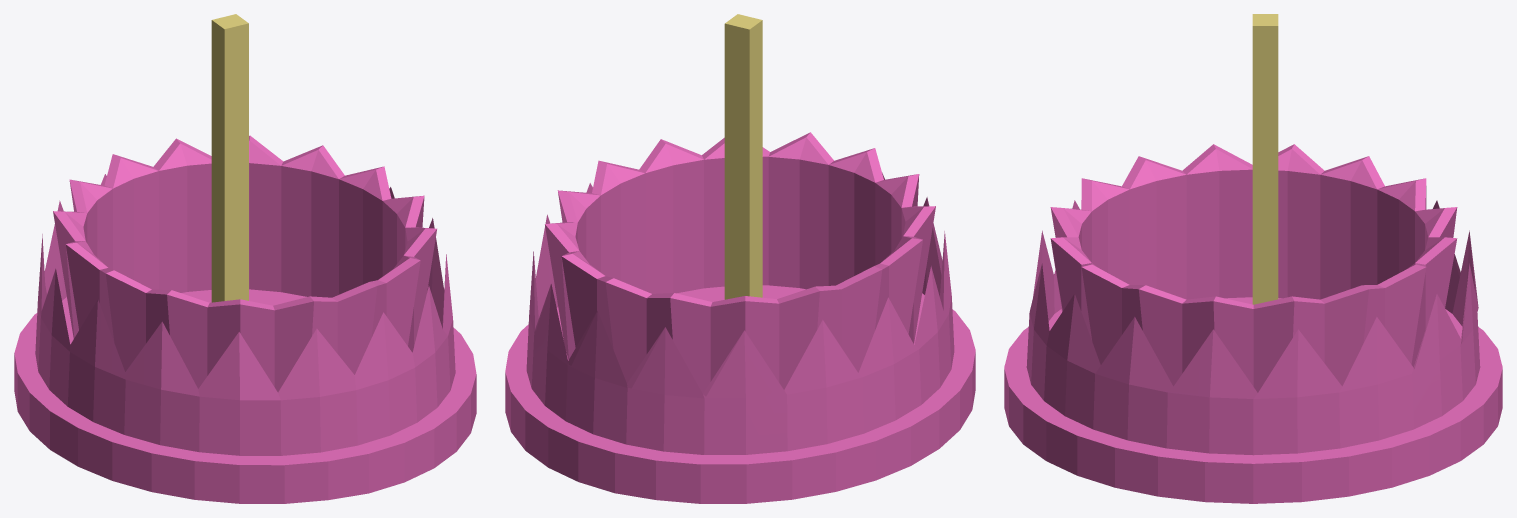
The model's file is กระทงสีชมพู  untitled.fbx.
3 renders of one model, left to right at view 1: azimuth 30°, elevation 25°; view 2: azimuth 150°, elevation 25°; view 3: azimuth 270°, elevation 25°, orthographic.
Visible parts, largest first — view 1: วงกลม.001; view 2: วงกลม.001; view 3: วงกลม.001.
Boxes of the visible parts, left/top/right/bottom form: วงกลม.001: left=14, top=14, right=476, bottom=503; วงกลม.001: left=505, top=14, right=975, bottom=503; วงกลม.001: left=1004, top=14, right=1502, bottom=503.
Size of the model in its own units: 207 by 192 by 227.
